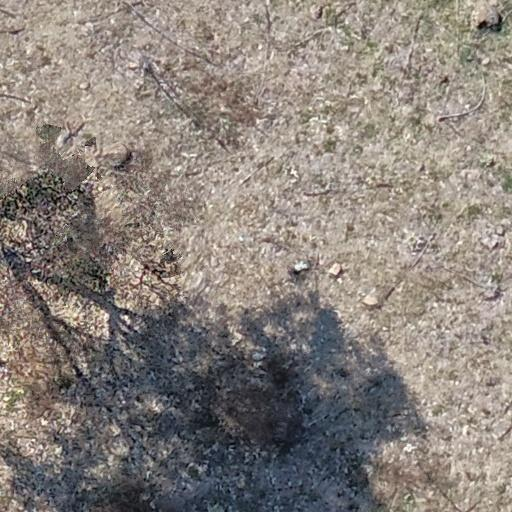stone: (476, 5, 500, 32), (110, 144, 131, 170), (7, 19, 29, 40), (480, 276, 498, 297), (482, 235, 503, 251), (364, 290, 378, 308), (402, 436, 414, 457), (426, 112, 440, 128), (80, 79, 91, 96), (330, 262, 343, 275), (296, 260, 308, 274)
